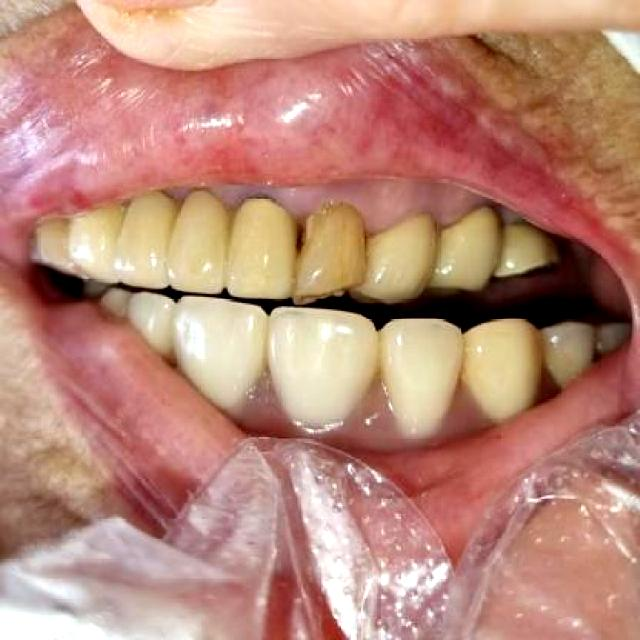Plaque: (280, 206, 326, 268)
